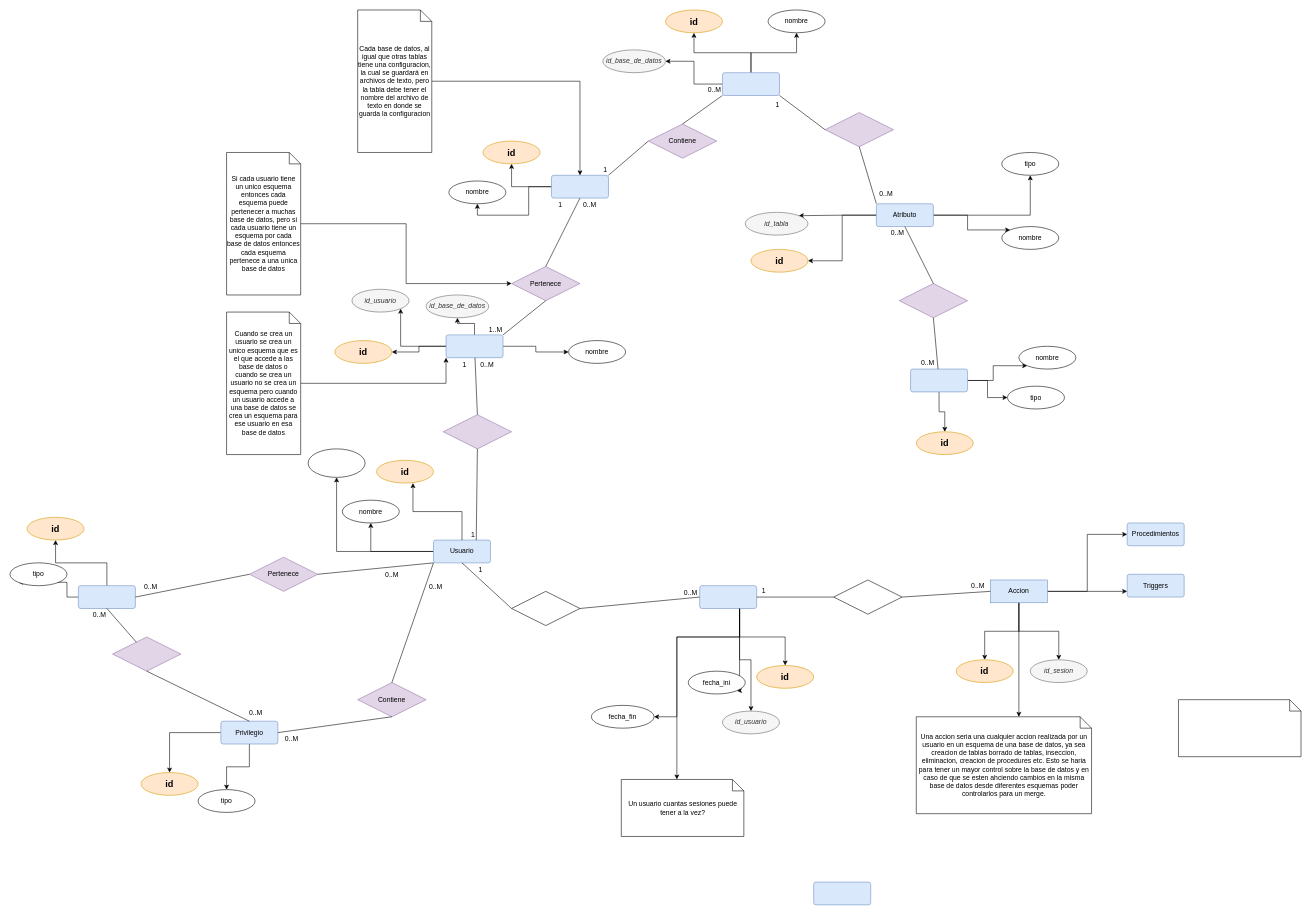
The diagram is 1311 pixels wide and 915 high, and some of its shapes have lost their labels. The shapes that lost their labels are listed below. From the top down, each one's box as (x1, y1, x2, y2) in pixels, then its label:
(722, 72, 779, 95): Tabla
(825, 112, 893, 147): Es formada
(551, 175, 608, 198): Base de datos
(899, 283, 968, 318): Tiene
(445, 334, 503, 358): Esquema
(910, 369, 968, 392): Restriccion
(443, 414, 512, 449): Incorpora
(308, 448, 365, 477): contraseña
(78, 585, 135, 608): Rol
(511, 591, 580, 626): Inica
(699, 585, 757, 608): Sesion
(833, 579, 902, 614): Ejecuta
(112, 636, 181, 671): Lleva
(1178, 699, 1301, 757): Todos las tablas tienen un create_at y update_at
(813, 882, 871, 905): Configuracion
